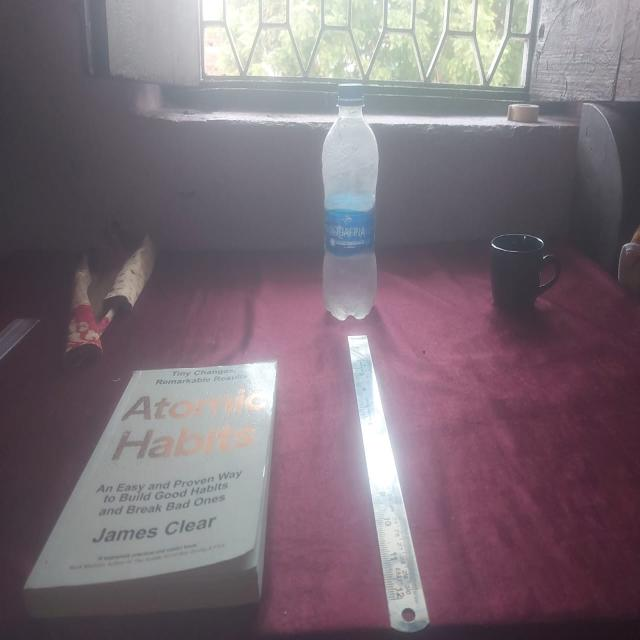Book: (19, 363, 274, 612), (339, 328, 434, 630), (314, 74, 382, 326)
Cup: (476, 232, 566, 320)
